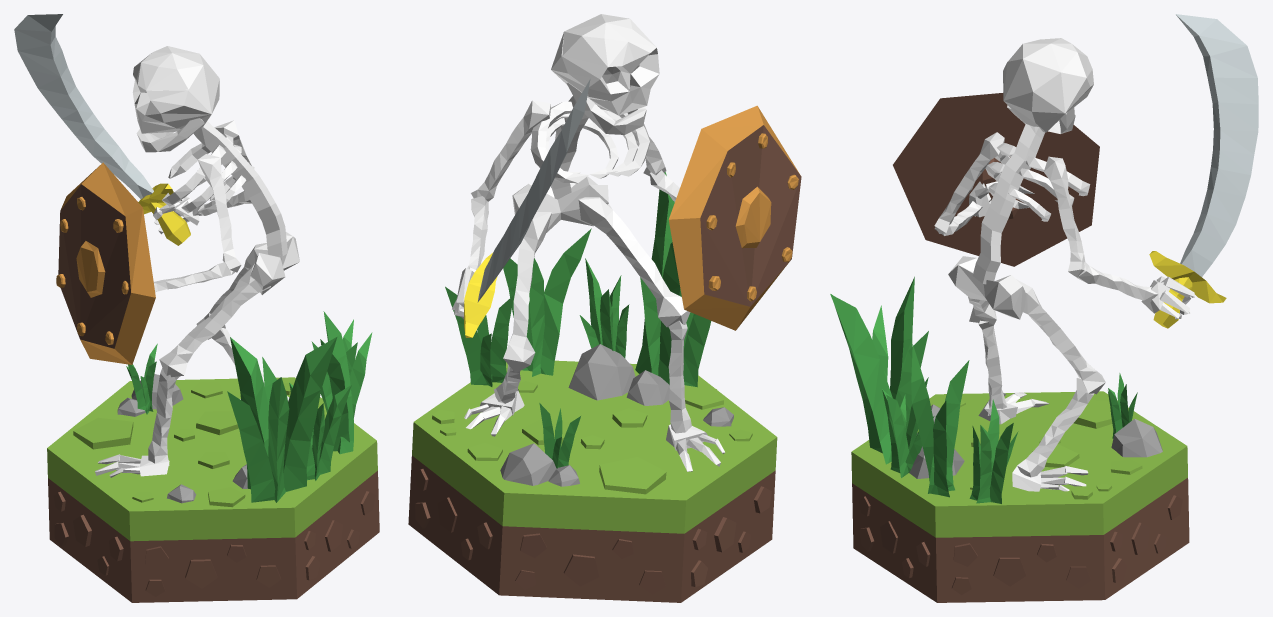
File: skeleton.glb
3 views of the same model, side by side, from view 1: azimuth 30°, elevation 25°; view 2: azimuth 150°, elevation 25°; view 3: azimuth 270°, elevation 25° (orthographic). The views are drawn at different scales.
Visible parts, largest first — view 1: group1863037566, group699004389, group1363386909, group103449272, group591725100, group407618126, group638374838, group554927415, group851455025, group1472878641, group1922105849, group380548712 (+18 smaller); view 2: group1863037566, group699004389, group103449272, group1363386909, group638374838, group444214349, group1722276438, group1642214509, group213008680, group2037470225, group1318756961, group380548712 (+28 smaller); view 3: group1863037566, group699004389, group1363386909, group103449272, group407618126, group591725100, group213008680, group444214349, group1392303950, group2037470225, group1642214509, group851455025 (+17 smaller).
Boxes of the visible parts, bbox=[...] form: group1863037566: bbox=[47, 377, 379, 602]; group699004389: bbox=[58, 162, 155, 364]; group1363386909: bbox=[14, 14, 153, 198]; group103449272: bbox=[132, 46, 219, 133]; group591725100: bbox=[283, 337, 337, 491]; group407618126: bbox=[193, 121, 287, 256]; group638374838: bbox=[159, 262, 270, 377]; group554927415: bbox=[227, 391, 275, 502]; group851455025: bbox=[230, 337, 268, 489]; group1472878641: bbox=[268, 377, 289, 502]; group1922105849: bbox=[198, 154, 241, 272]; group380548712: bbox=[148, 368, 179, 465]; group1863037566: bbox=[408, 360, 777, 602]; group699004389: bbox=[668, 105, 801, 330]; group103449272: bbox=[551, 14, 659, 115]; group1363386909: bbox=[477, 79, 590, 302]; group638374838: bbox=[578, 197, 690, 327]; group444214349: bbox=[503, 207, 551, 372]; group1722276438: bbox=[568, 344, 635, 400]; group1642214509: bbox=[528, 228, 591, 375]; group213008680: bbox=[512, 176, 608, 232]; group2037470225: bbox=[471, 100, 550, 201]; group1318756961: bbox=[599, 457, 666, 494]; group380548712: bbox=[668, 320, 691, 433]; group1863037566: bbox=[851, 391, 1189, 602]; group699004389: bbox=[893, 93, 1099, 266]; group1363386909: bbox=[1175, 14, 1258, 276]; group103449272: bbox=[1003, 38, 1093, 132]; group407618126: bbox=[972, 124, 1044, 284]; group591725100: bbox=[830, 294, 892, 464]; group213008680: bbox=[948, 256, 1026, 319]; group444214349: bbox=[1016, 279, 1105, 394]; group1392303950: bbox=[1017, 377, 1094, 477]; group2037470225: bbox=[1044, 156, 1085, 277]; group1642214509: bbox=[911, 344, 938, 494]; group851455025: bbox=[890, 276, 914, 399].
Bounding box in the file's own units: 0.5751 × 0.9662 × 0.7496.
